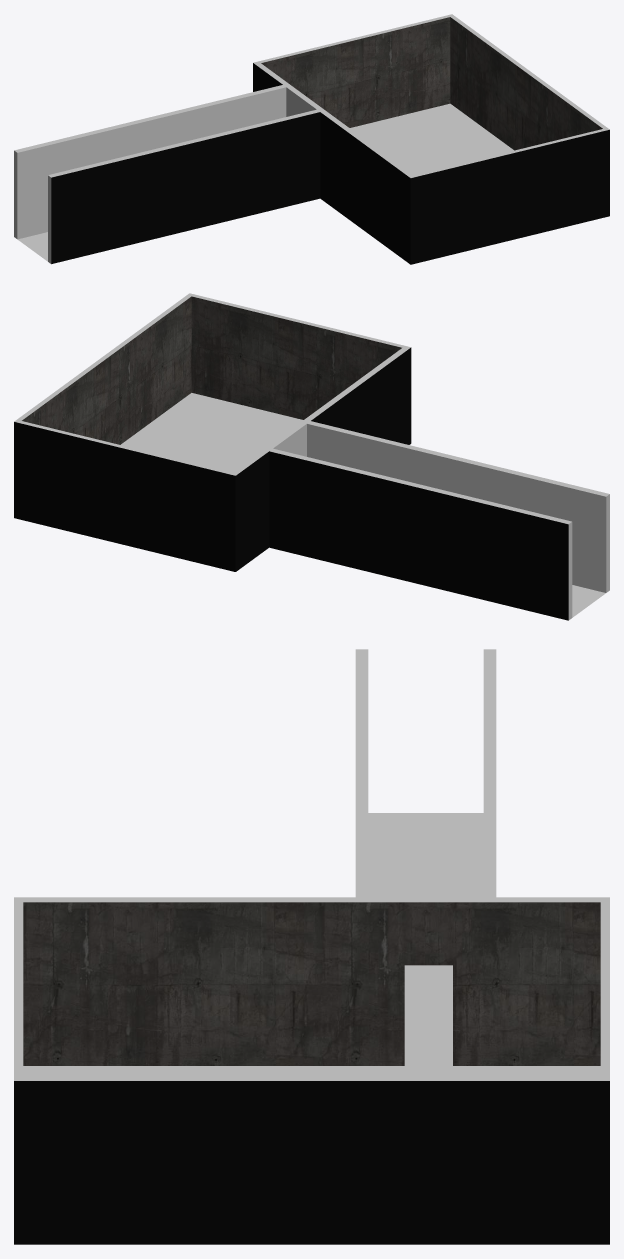
File: soviet_room.FBX
The picture shows the model from 3 angles, top to bottom: view 1: azimuth 30°, elevation 25°; view 2: azimuth 150°, elevation 25°; view 3: azimuth 270°, elevation 25°; orthographic projection. The views are drawn at different scales.
Visible parts, largest first — view 1: soviet_walls, soviet_floor; view 2: soviet_walls, soviet_floor; view 3: soviet_walls, soviet_floor.
Part boxes in pixels (box(x1,y1,x2,y2)): soviet_walls: box(14, 14, 609, 264); soviet_floor: box(17, 103, 513, 261); soviet_walls: box(14, 293, 609, 620); soviet_floor: box(121, 393, 605, 617); soviet_walls: box(14, 649, 609, 1244); soviet_floor: box(23, 813, 600, 1076).
Size of the model in its own units: 1582 by 280 by 923.
